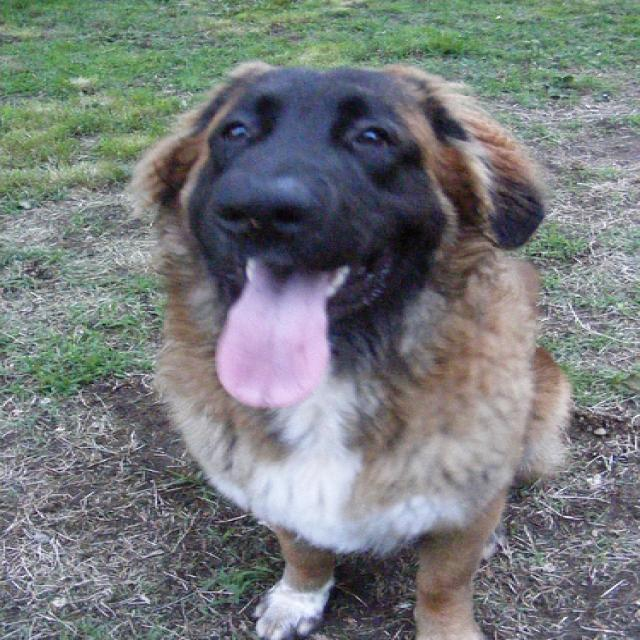dog-leonberger: (108, 44, 584, 637)
